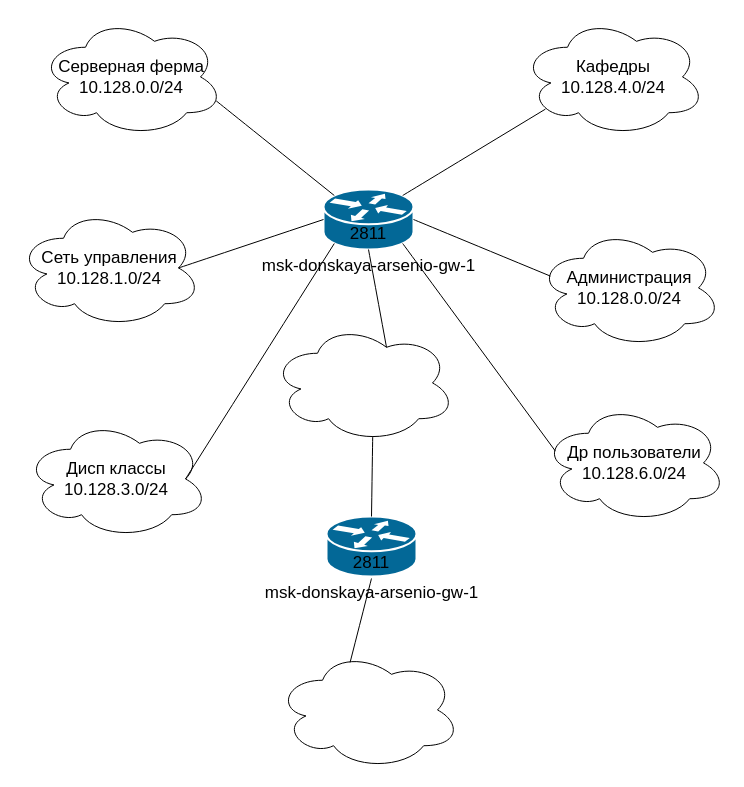
Some shapes in this 744 by 787 pixel diagram are drawn without their labels. Each missing label, with the box of its shape:
Интернет 192.0.2.0/24: (276, 650, 460, 770)
Провайдер 198.51.100.0/24: (270, 322, 456, 442)
